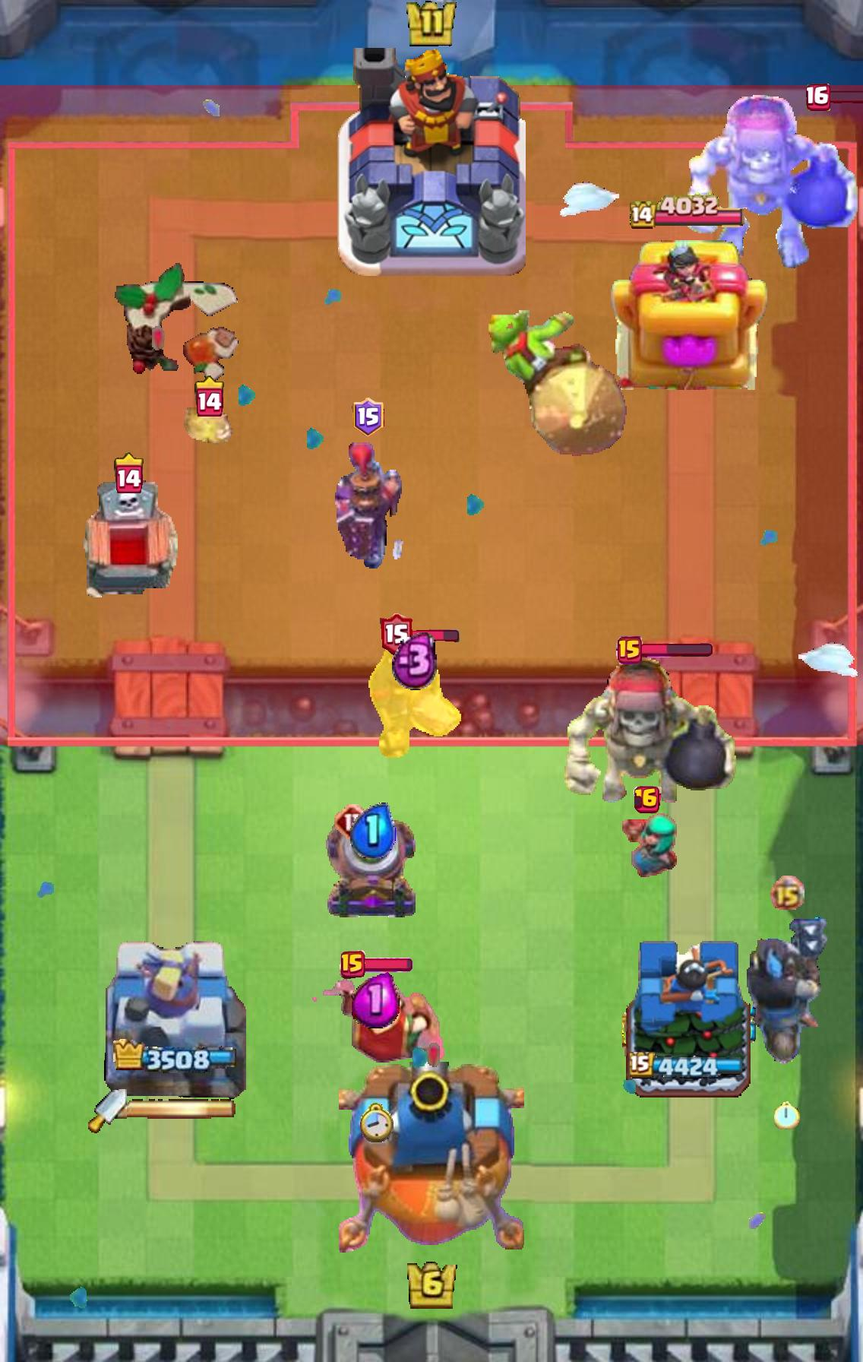bar: (638, 643, 713, 658), (362, 958, 413, 972), (409, 629, 460, 642), (827, 91, 863, 104)
bar-level: (380, 613, 413, 657), (334, 803, 371, 840), (351, 398, 384, 437), (114, 452, 144, 493), (195, 375, 224, 417), (633, 786, 661, 814), (616, 637, 642, 665), (340, 950, 365, 979), (806, 84, 830, 111)
